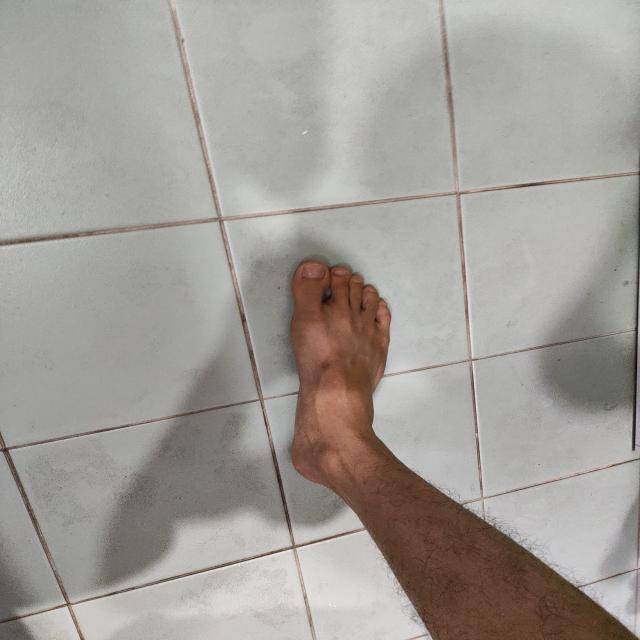No_Shoes: (230, 244, 446, 499)
